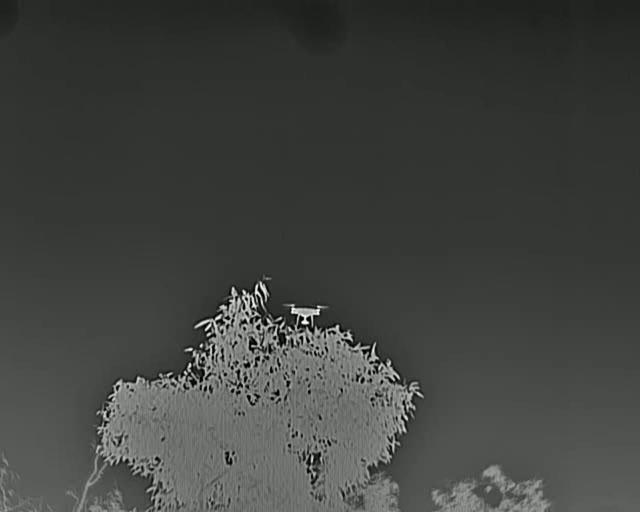DJI-Phantom: (284, 299, 330, 331)
